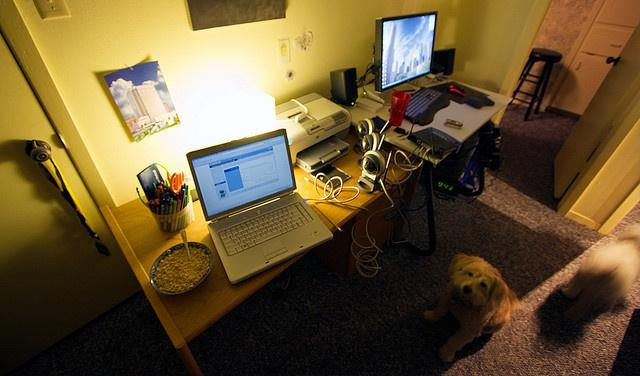AIO PC-Monitor-TV: (372, 8, 438, 92)
Printer: (275, 90, 351, 172)
